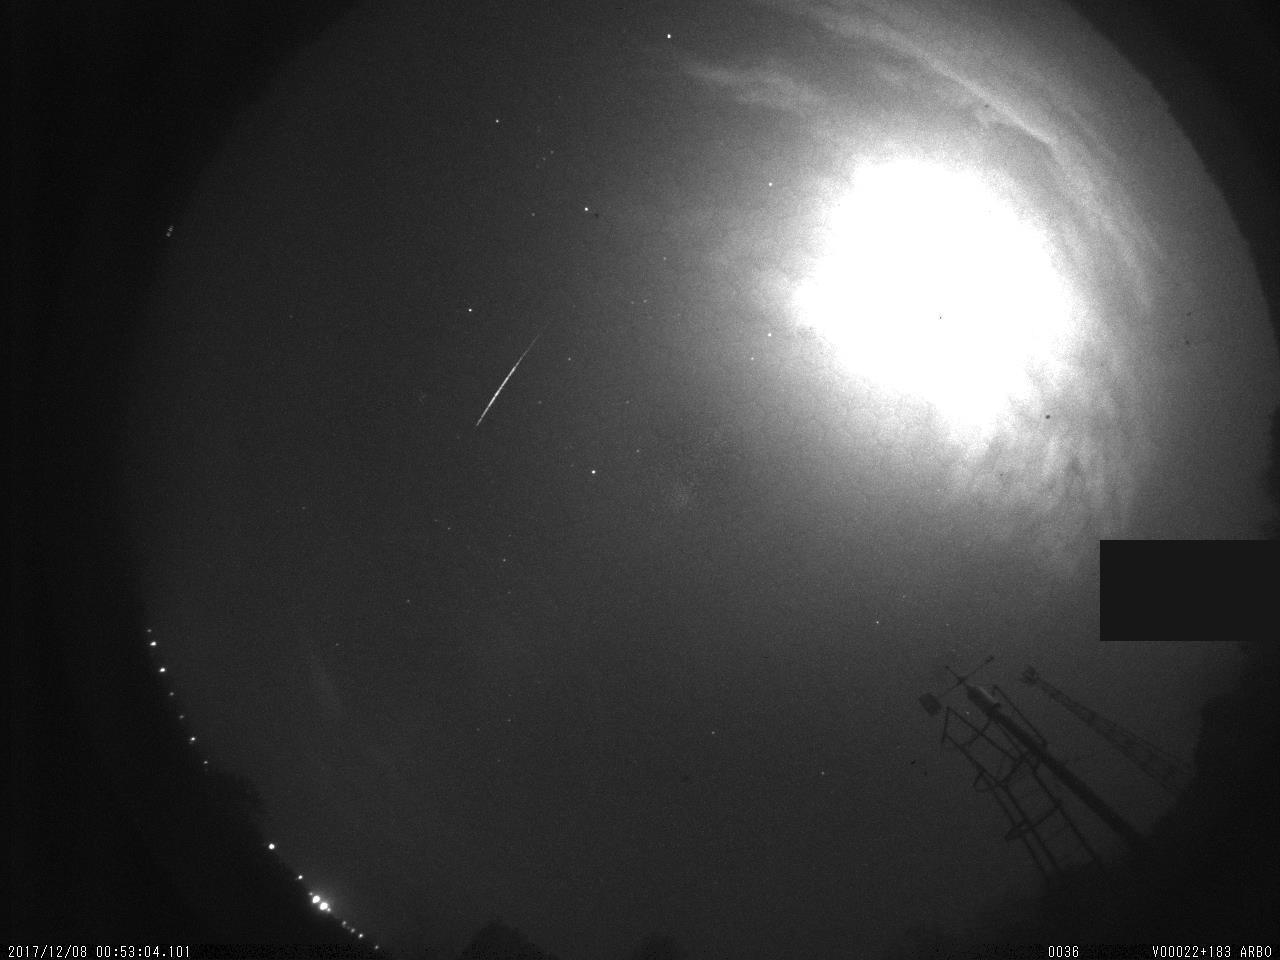meteor: (453, 321, 561, 440)
